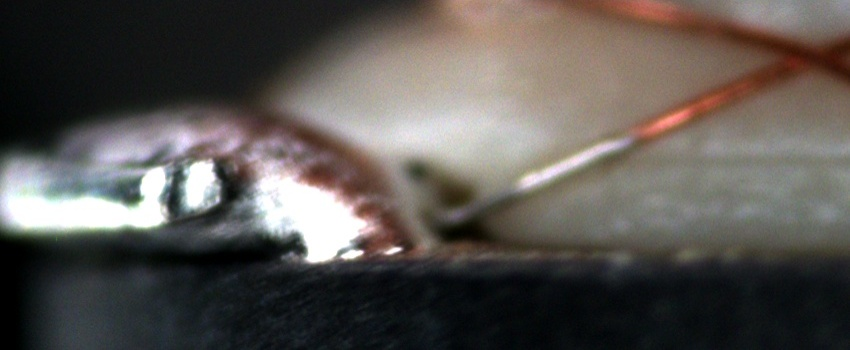DL: (623, 128, 850, 192)
TS: (439, 128, 638, 229)
